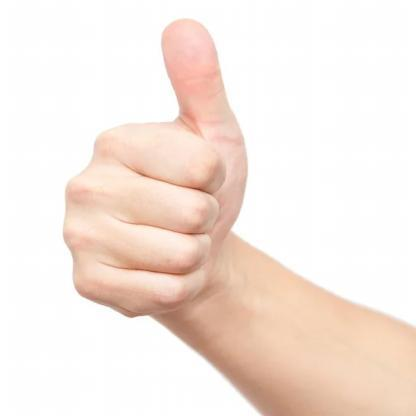thumb_up: (53, 13, 258, 321)
